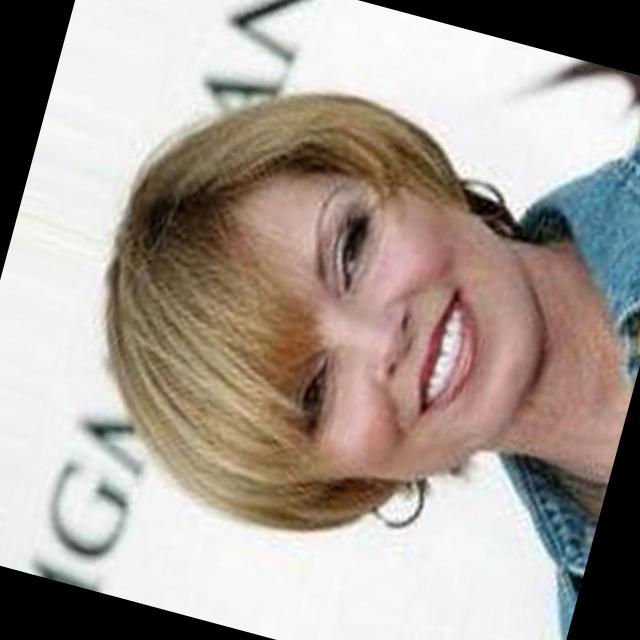bareface: (101, 90, 555, 542)
